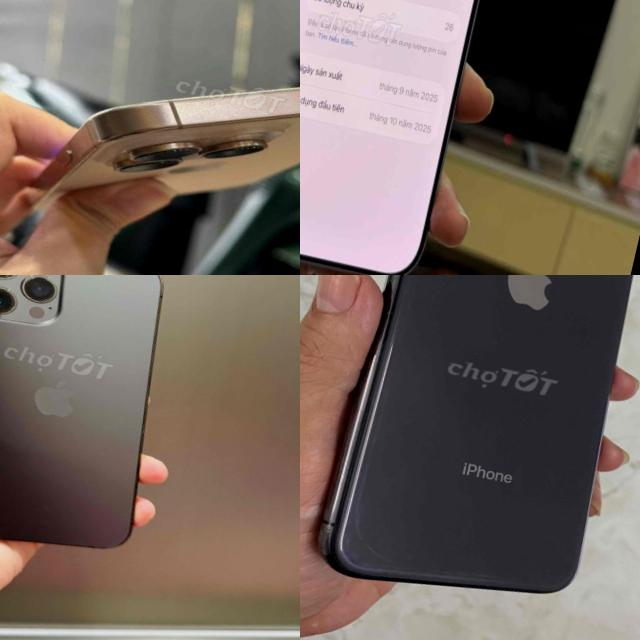gen_12_13: (0, 275, 196, 572)
gen_16: (31, 87, 300, 209)
gen_17: (300, 0, 532, 275)
gen_x_xs: (300, 275, 640, 640)
